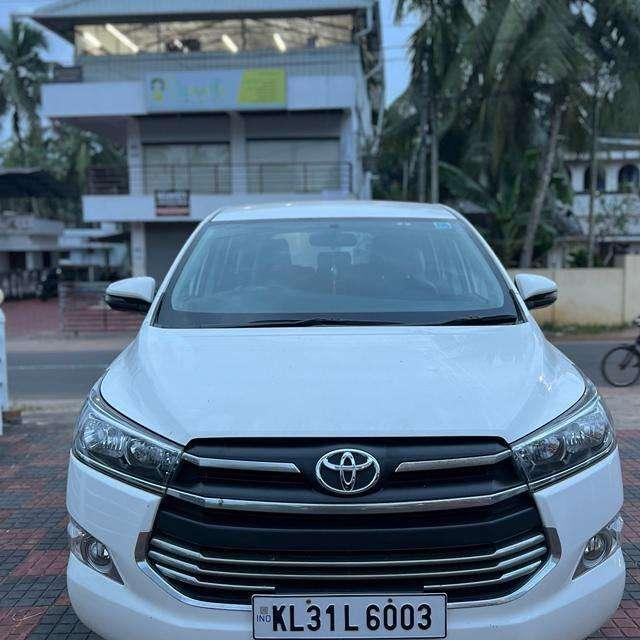Indian_Number_Plate: (254, 594, 448, 638)
